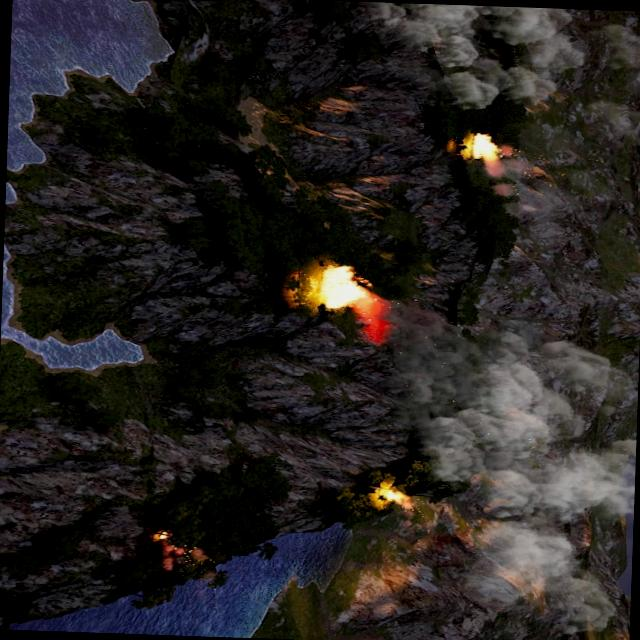fire: (308, 262, 389, 340), (312, 264, 373, 311), (150, 531, 189, 564), (462, 133, 501, 163), (373, 484, 411, 509)
smoke: (408, 316, 637, 640), (358, 1, 590, 107)
